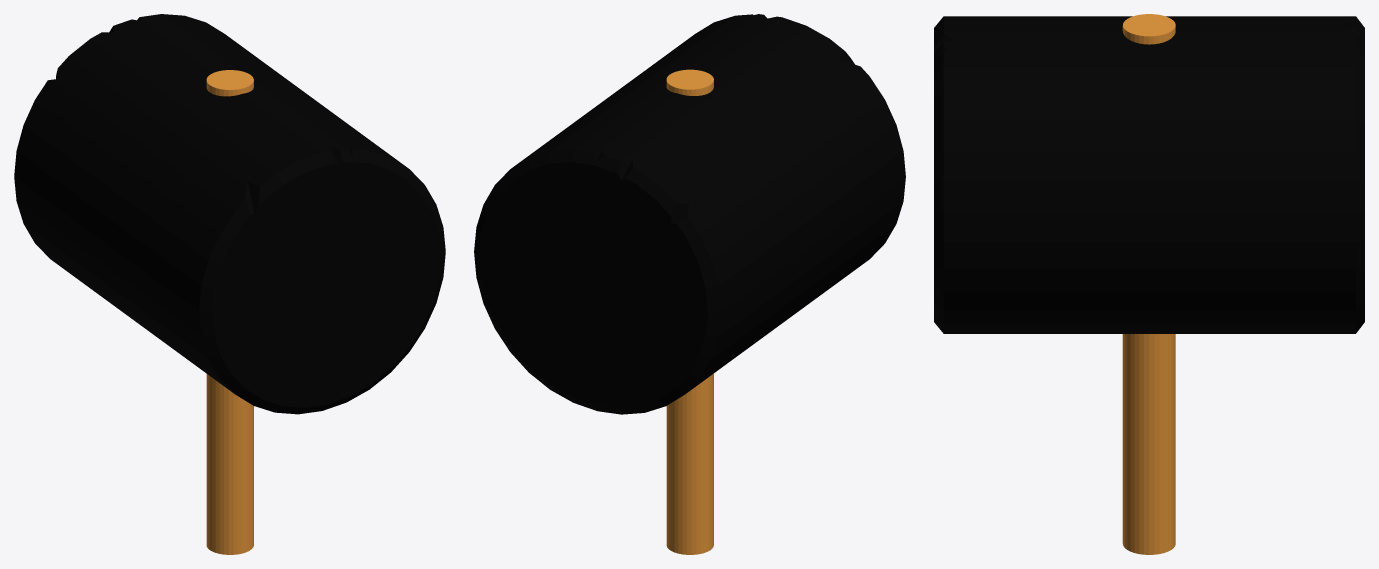
The model's file is mallet.fbx.
3 renders of one model, left to right at view 1: azimuth 30°, elevation 25°; view 2: azimuth 150°, elevation 25°; view 3: azimuth 270°, elevation 25°, orthographic. The views are drawn at different scales.
Visible parts, largest first — view 1: Cylinder, Cylinder.001; view 2: Cylinder, Cylinder.001; view 3: Cylinder, Cylinder.001.
Part boxes in pixels (x1,y1,x2,y2): Cylinder: (14,14,445,414); Cylinder.001: (206,70,253,554); Cylinder: (474,14,905,414); Cylinder.001: (666,69,713,554); Cylinder: (934,16,1364,333); Cylinder.001: (1122,14,1175,554).
Size of the model in its own units: 300 by 540 by 407.
